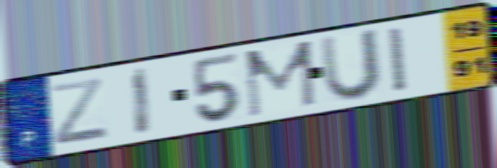5: (189, 50, 244, 127)
I: (385, 24, 411, 96), (131, 65, 154, 138)
M: (242, 37, 319, 121)
U: (317, 26, 383, 104)
Z: (48, 75, 112, 148)
